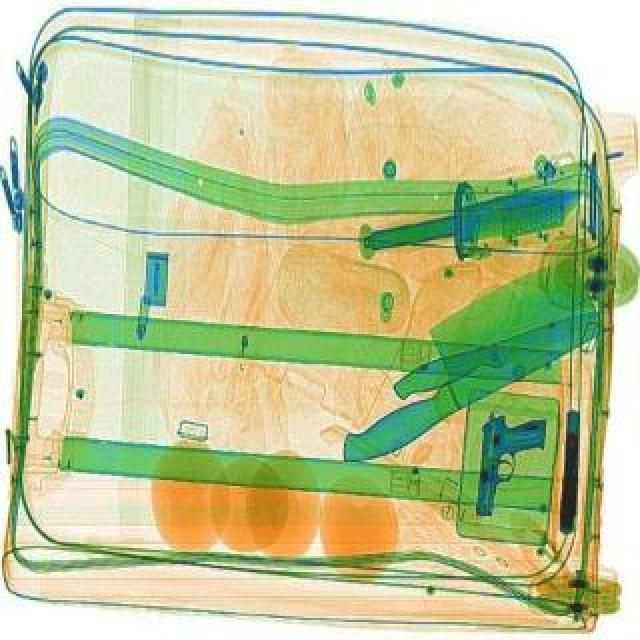gun: (470, 406, 548, 518), (554, 408, 582, 532)
knife: (300, 250, 620, 470), (388, 300, 614, 402), (358, 176, 588, 260)
